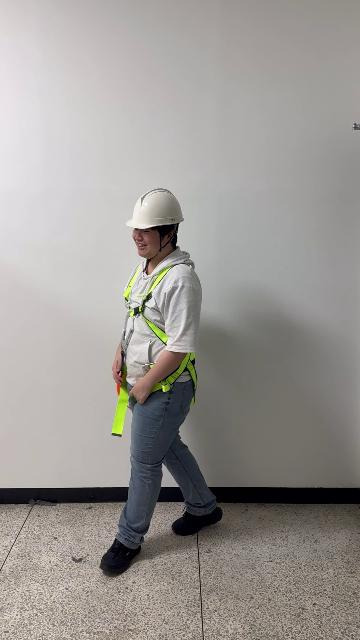helmet_worn: (124, 187, 185, 229)
shoe_not_worn: (99, 538, 141, 574), (171, 505, 221, 535)
vest_worn: (124, 263, 194, 383)
